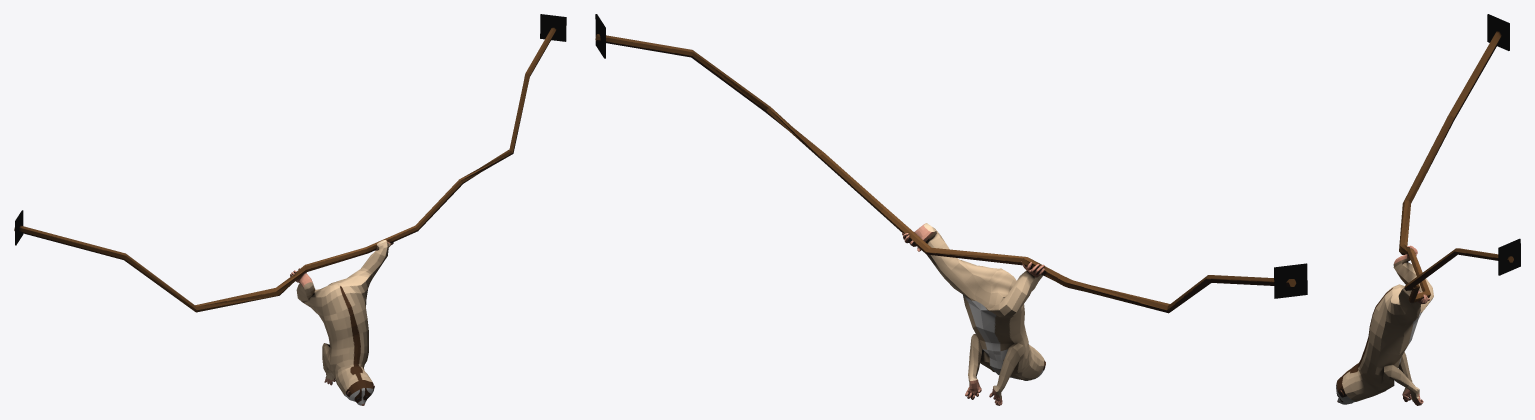
File: loris.glb
3 renders of one model, left to right at view 1: azimuth 30°, elevation 25°; view 2: azimuth 150°, elevation 25°; view 3: azimuth 270°, elevation 25°, orthographic. The views are drawn at different scales.
Visible parts, largest first — view 1: Vine.001; view 2: Vine.001; view 3: Vine.001.
Part boxes in pixels (x1,y1,x2,y2): Vine.001: (14,14,566,405); Vine.001: (595,14,1307,405); Vine.001: (1336,14,1520,405).
Bounding box in the file's own units: 1.34 × 0.6257 × 0.341.
1 material, 1 textured.
